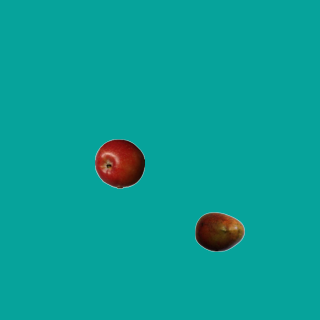Apple Braeburn: (94, 138, 144, 188)
Mango Red: (194, 206, 244, 256)
